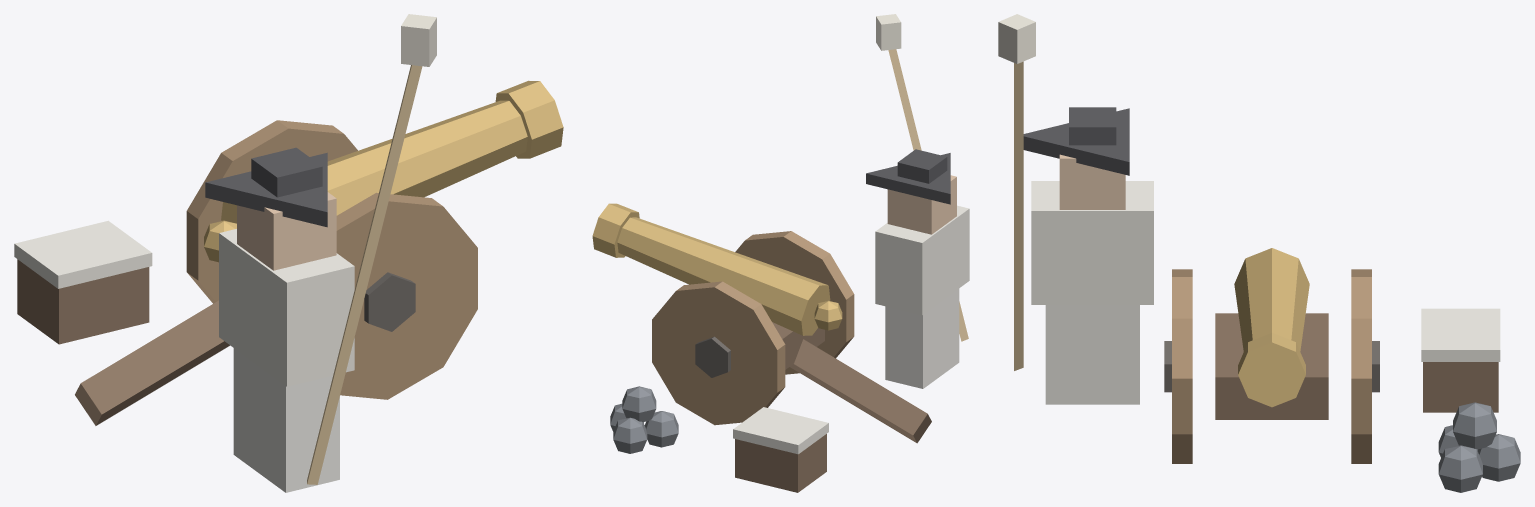
Rendered from formation_back.glb.
The picture shows the model from 3 angles, left to right: view 1: azimuth 30°, elevation 25°; view 2: azimuth 150°, elevation 25°; view 3: azimuth 270°, elevation 25°; orthographic projection. The views are drawn at different scales.
Visible parts, largest first — view 1: gunpowder_formation_back; view 2: gunpowder_formation_back; view 3: gunpowder_formation_back.
Boxes of the visible parts, x1,y1,x2,y2 form: gunpowder_formation_back: [14, 14, 563, 492]; gunpowder_formation_back: [592, 14, 969, 492]; gunpowder_formation_back: [998, 14, 1520, 492].
Bounding box in the file's own units: 0.9364 × 0.8843 × 0.9995.
